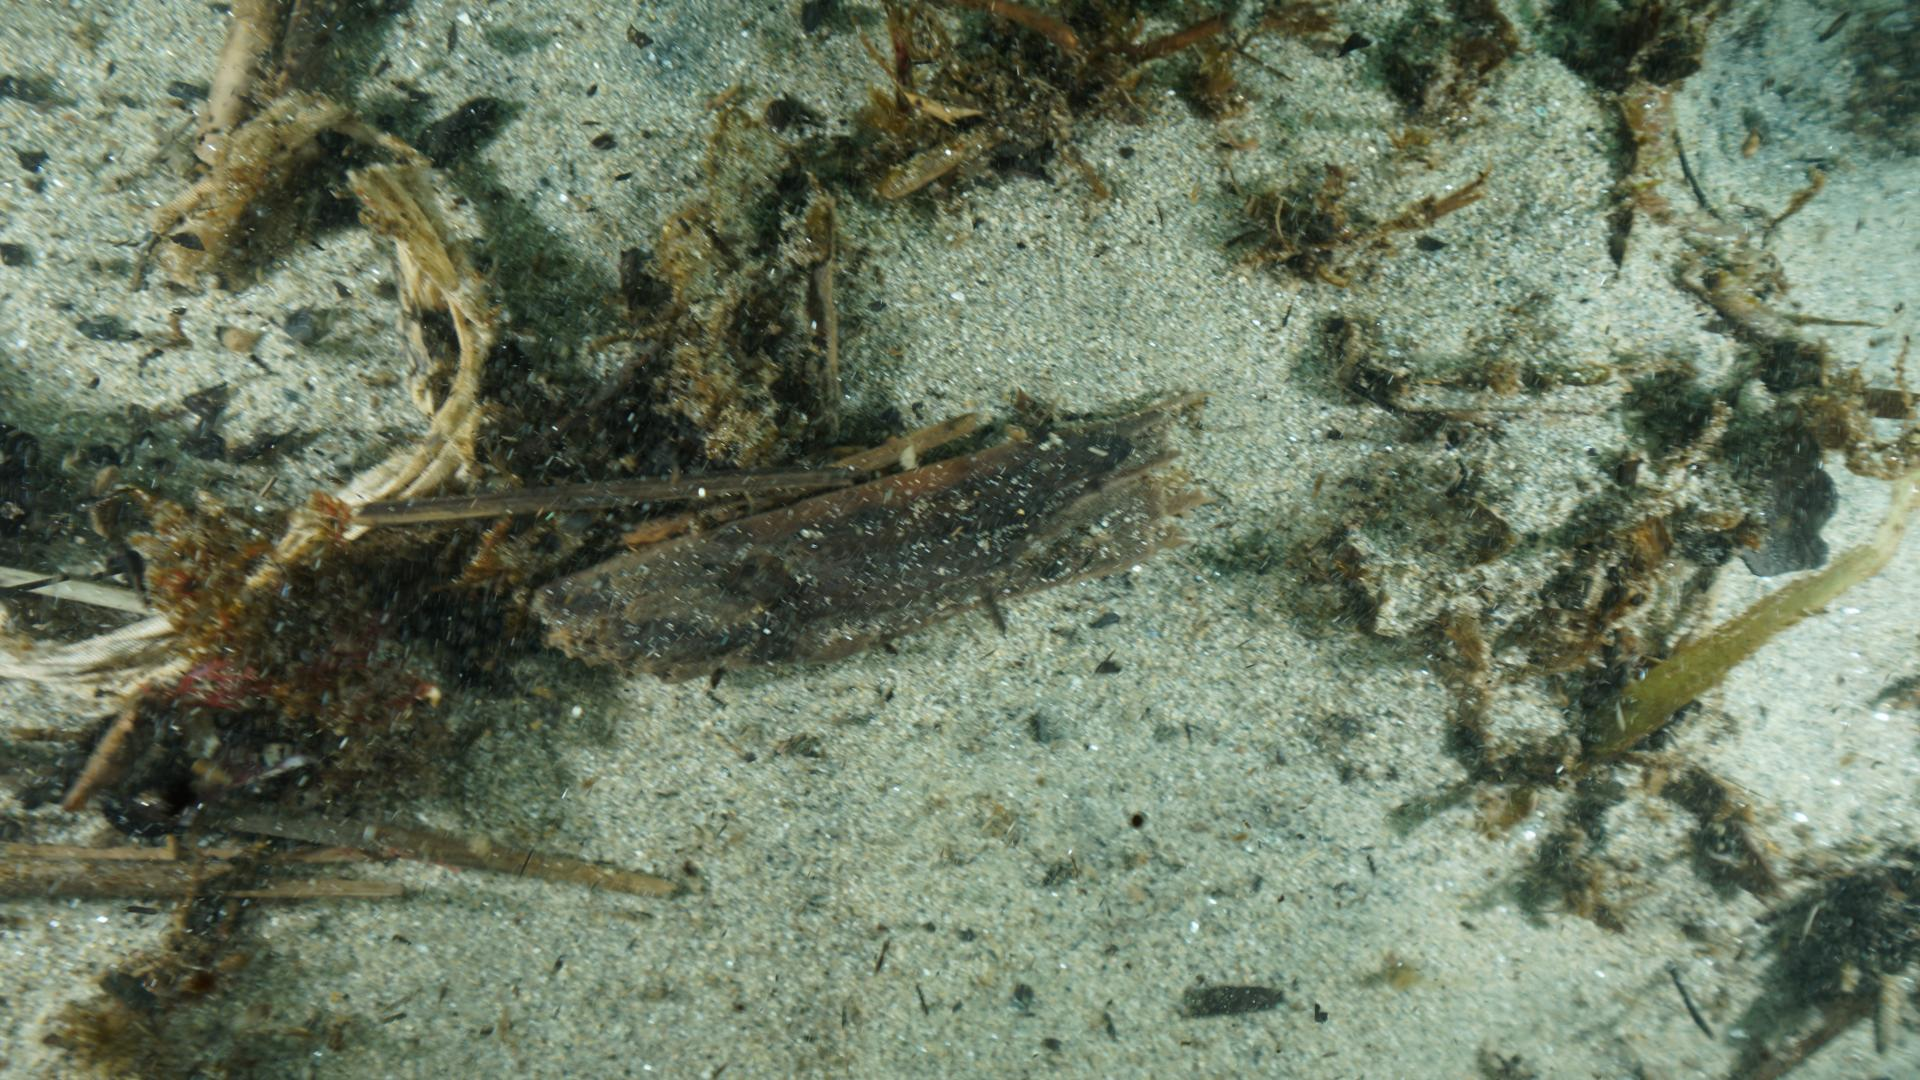wood: (526, 392, 1187, 695)
